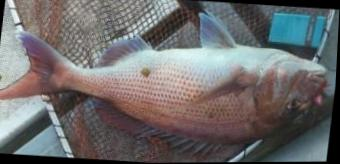fish: (0, 33, 327, 158)
